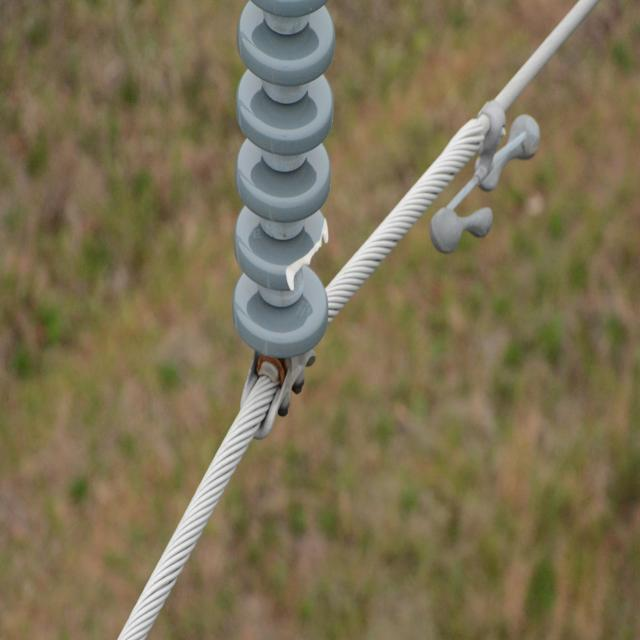broken: (285, 210, 330, 292)
insulator: (232, 0, 337, 356)
